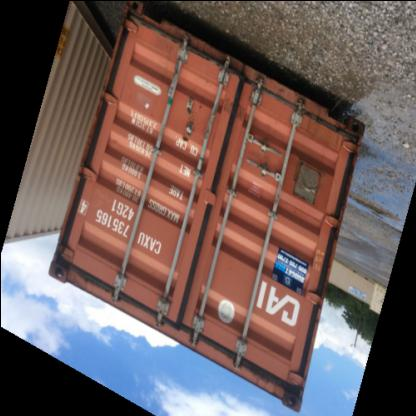Damage: (134, 13, 236, 72), (297, 98, 355, 148), (219, 94, 247, 126)
